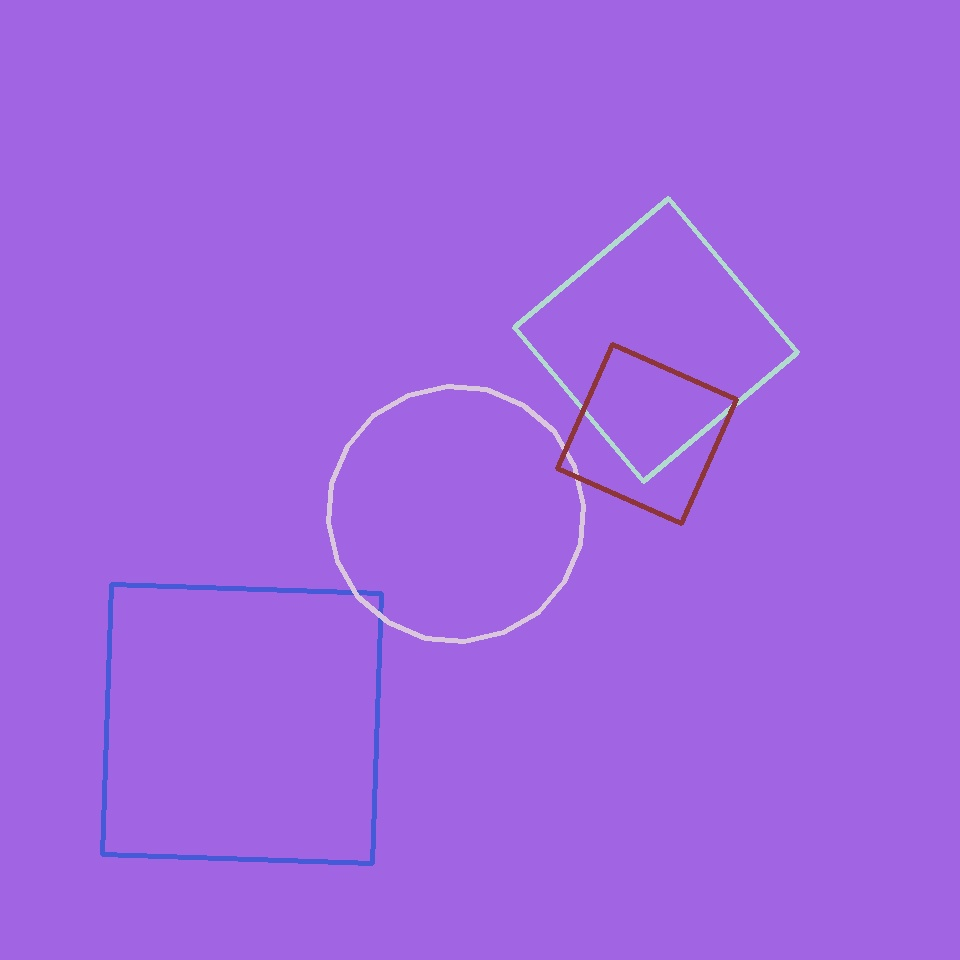square: (514, 198, 798, 482), (102, 584, 382, 864), (558, 344, 736, 524)
triangle: (328, 386, 584, 642)
